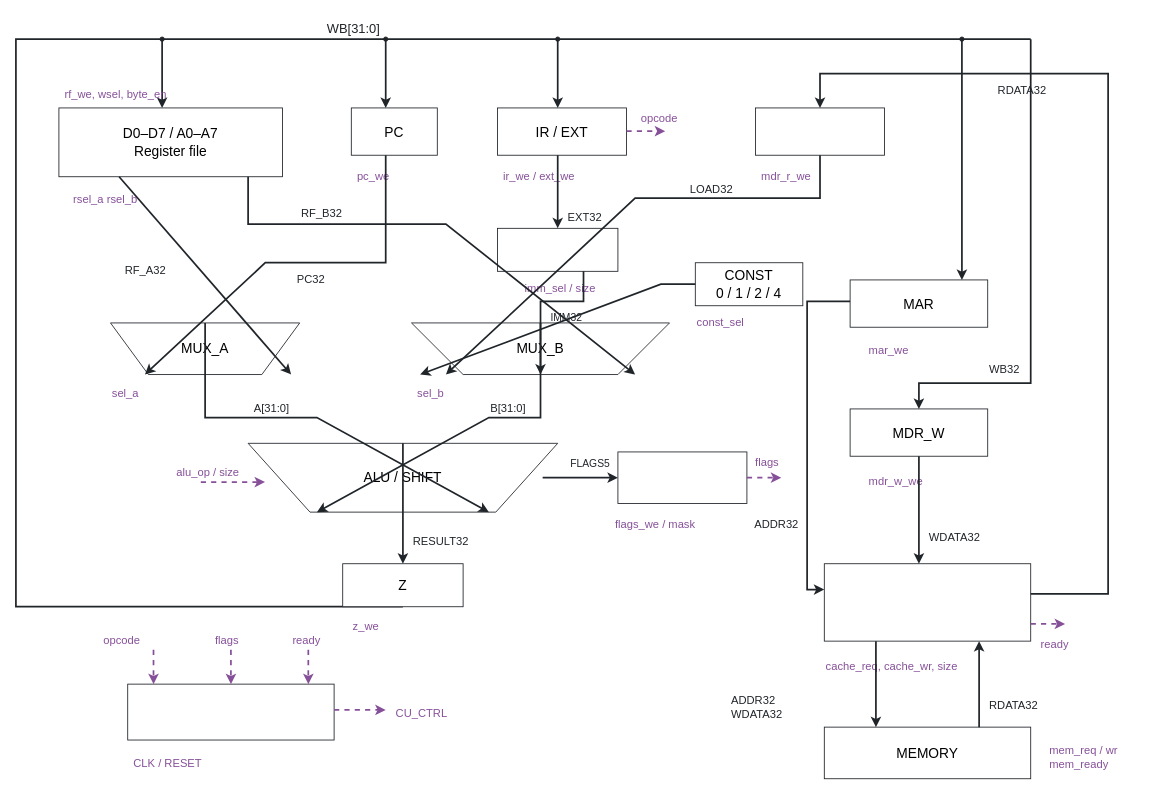
Image size: 1167x794. Some labels were removed from this diagram. The shapes that lost their labels are listed below. From the top down, each one's centre as x and y in pixels, then its label:
point (820, 131): MDR_R
point (557, 249): IMM / EXTEND
point (682, 477): CCR X N Z V C
point (927, 602): UNIFIED CACHE
point (230, 711): CONTROL UNIT
